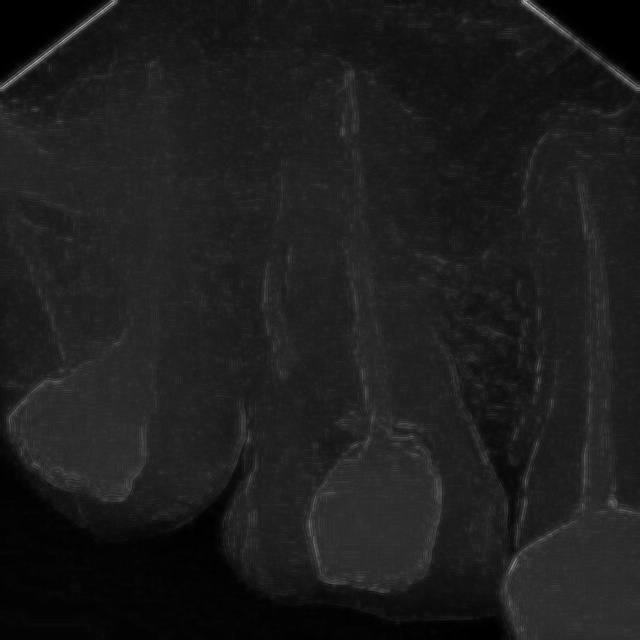Class 1- complete endodontic treatment: (227, 24, 530, 630)
